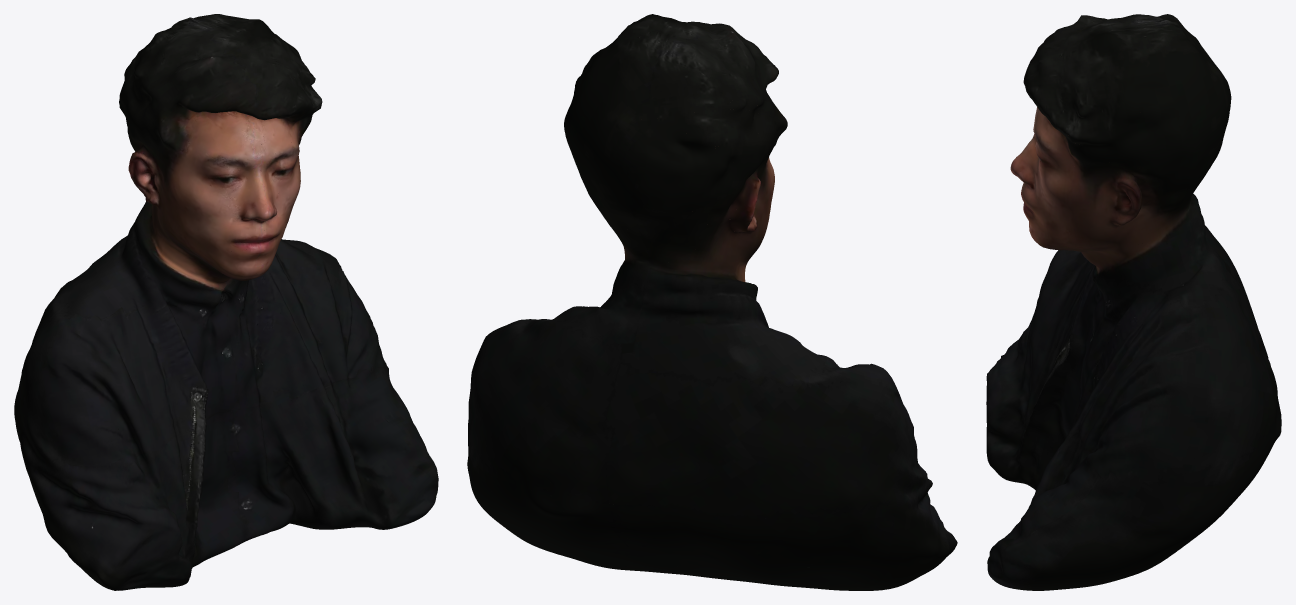
Rendered from 真人头像_男_中线纹饰侧脸01_opt.glb.
The picture shows the model from 3 angles, left to right: view 1: azimuth 30°, elevation 25°; view 2: azimuth 150°, elevation 25°; view 3: azimuth 270°, elevation 25°; orthographic projection. The views are drawn at different scales.
Parts seen in each view (by area): view 1: hjkAdefaultMat, hjkAdefaultMat_1; view 2: hjkAdefaultMat, hjkAdefaultMat_1; view 3: hjkAdefaultMat, hjkAdefaultMat_1.
Boxes of the visible parts, x1=… form: hjkAdefaultMat: x1=14, y1=14, x2=438, y2=590; hjkAdefaultMat_1: x1=17, y1=18, x2=430, y2=587; hjkAdefaultMat: x1=467, y1=14, x2=957, y2=590; hjkAdefaultMat_1: x1=468, y1=19, x2=954, y2=585; hjkAdefaultMat: x1=986, y1=14, x2=1281, y2=590; hjkAdefaultMat_1: x1=989, y1=17, x2=1281, y2=577.
Bounding box in the file's own units: 0.234 × 0.3 × 0.1567.
1 material, 1 textured.
